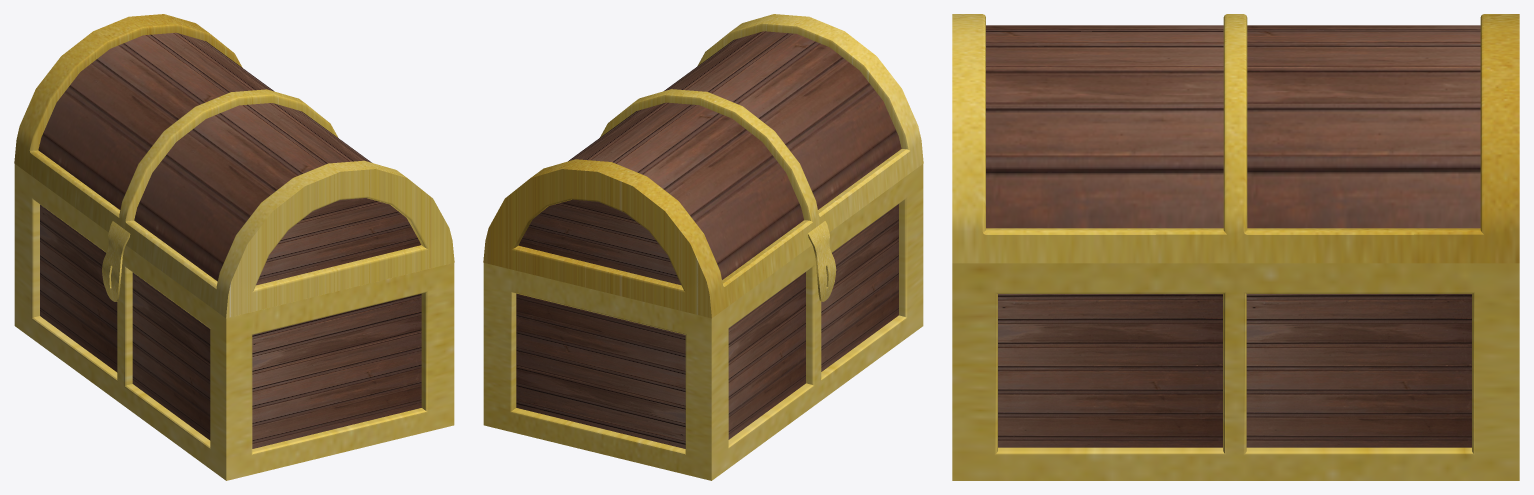
Rendered from cash_box.fbx.
3 renders of one model, left to right at view 1: azimuth 30°, elevation 25°; view 2: azimuth 150°, elevation 25°; view 3: azimuth 270°, elevation 25°, orthographic. The views are drawn at different scales.
Parts seen in each view (by area): view 1: pCylinder1, pCube1, pCube2; view 2: pCylinder1, pCube1, pCube2; view 3: pCylinder1, pCube1.
Boxes of the visible parts, x1,y1,x2,y2 form: pCylinder1: (14,14,454,318); pCube1: (14,164,454,480); pCube2: (102,221,130,301); pCylinder1: (483,14,923,318); pCube1: (483,164,923,480); pCube2: (808,221,836,301); pCylinder1: (952,14,1519,263); pCube1: (952,263,1519,480).
Bounding box in the file's own units: 1.62 × 1.83 × 2.49.
1 material, 1 textured.
